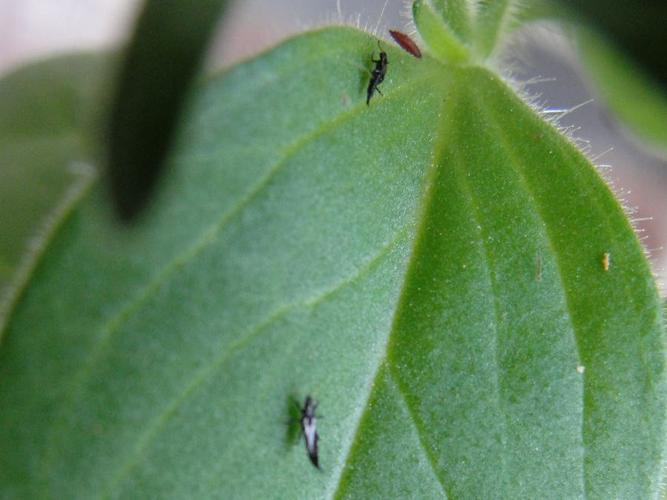Phlaeothripidae: (287, 391, 327, 476), (360, 39, 393, 104)
